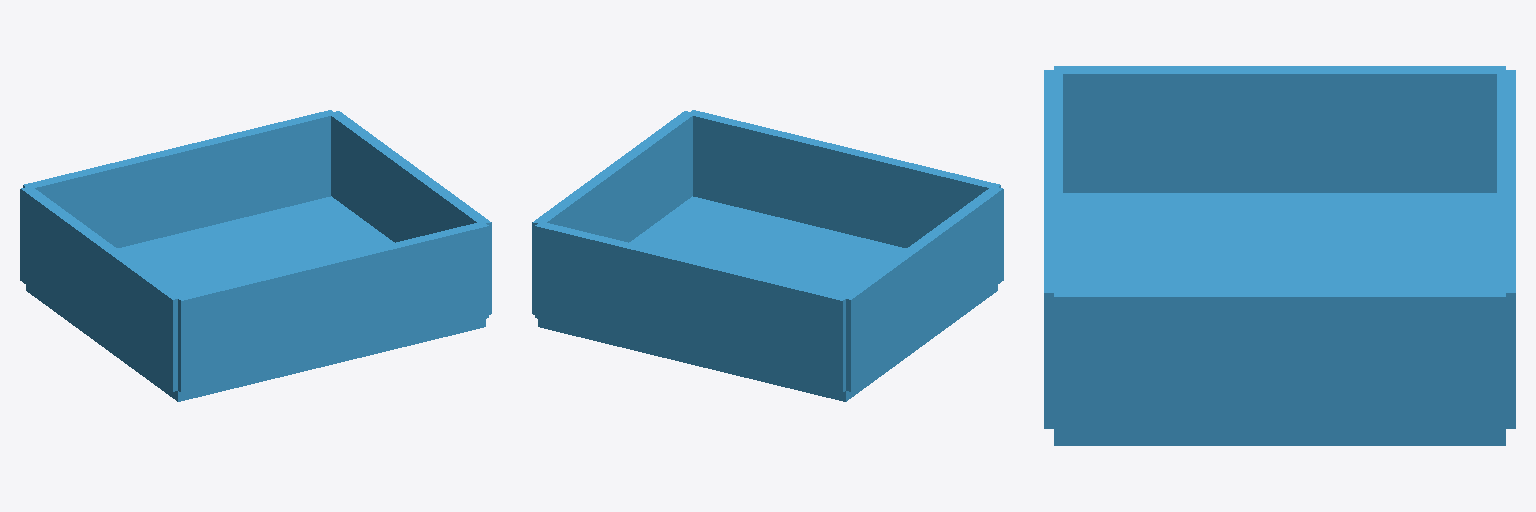
robot.urdf — bowl.urdf:
<?xml version="0.0" ?>
<robot name="bowl.urdf">

  <material name="yellow">
    <color rgba="1 1 0.4 1"/>
  </material>
  <material name="red">
    <color rgba="1 0 0 1"/>
  </material>
  <material name="blue">
    <color rgba=".17 .20 .38 1"/>
  </material>
  <material name="teal">
    <color rgba="0 .5 .5 1"/>
  </material>
  <material name="orange">
    <color rgba=".93 .6 .23 1"/>
  </material>

  <link name="world"/>

  <link name="base">
    <inertial>
      <origin rpy="0 0 0" xyz="0.0 0.0 0.0"/>
       <mass value="0.1"/>
       <inertia ixx="1" ixy="0" ixz="0" iyy="1" iyz="0" izz="1"/>
    </inertial>
    <visual>
      <origin rpy="0 0 0" xyz="0 0 -0.2"/>
      <geometry>
        <box size="1.4 1.2 .1"/>
      </geometry>
    </visual>
    <visual>
      <!-- right -->
      <origin rpy="0 0 0" xyz="0 -.6 0"/>
      <geometry>
        <box size="1.4 .05 0.4"/>
      </geometry>
    </visual>
    <visual>
      <!-- left -->
      <origin rpy="0 0 0" xyz="0 .6 0"/>
      <geometry>
        <box size="1.4 .05 0.4"/>
      </geometry>
    </visual>
    <visual>
      <!-- front -->
      <origin rpy="0 0 0" xyz=".7 0 0"/>
      <geometry>
        <box size=".05 1.2 0.4"/>
      </geometry>
    </visual>
    <visual>
      <!-- back -->
      <origin rpy="0 0 0" xyz="-.7 0 0"/>
      <geometry>
        <box size=".05 1.2 0.4"/>
      </geometry>
    </visual>

    <collision>
      <!--Bottom --> 
      <origin rpy="0 0 0" xyz="0 0 -.2"/>
      <geometry>
        <box size="1.4 1.2 .1"/>
      </geometry>
    </collision>
    <collision>
      <!-- right -->
      <origin rpy="0 0 0" xyz="0 -.6 0"/>
      <geometry>
        <box size="1.4 .05 0.4"/>
      </geometry>
    </collision>
    <collision>
      <!-- left -->
      <origin rpy="0 0 0" xyz="0 .6 0"/>
      <geometry>
        <box size="1.4 .05 0.4"/>
      </geometry>
    </collision>
    <collision>
      <!-- front -->
      <origin rpy="0 0 0" xyz=".7 0 0"/>
      <geometry>
        <box size=".05 1.2 0.4"/>
      </geometry>
    </collision>
    <collision>
      <!-- back -->
      <origin rpy="0 0 0" xyz="-.7 0 0"/>
      <geometry>
        <box size=".05 1.2 0.4"/>
      </geometry>
    </collision>
  </link>

  <joint name="base_joint" type="fixed">
    <parent link="world"/>
    <child link="base"/>
  </joint>

</robot>

--- Render facts (derived) ---
3 views of the same robot in one strip: view 1: azimuth 30°, elevation 25°; view 2: azimuth 150°, elevation 25°; view 3: azimuth 270°, elevation 25° (orthographic).
Robot: bowl.urdf — 2 links, 1 joints (1 fixed); root link world; default pose: all joints at 0.
Visible links, largest first — view 1: base; view 2: base; view 3: base.
Link boxes in pixels (left/top/right/bottom): base: left=20, top=110, right=491, bottom=401; base: left=532, top=110, right=1003, bottom=401; base: left=1044, top=66, right=1515, bottom=445.
Bounding box of the posed robot: 1.45 × 1.25 × 0.45 m (x, y, z).
Geometry: primitives only (box / cylinder / sphere), no mesh files.